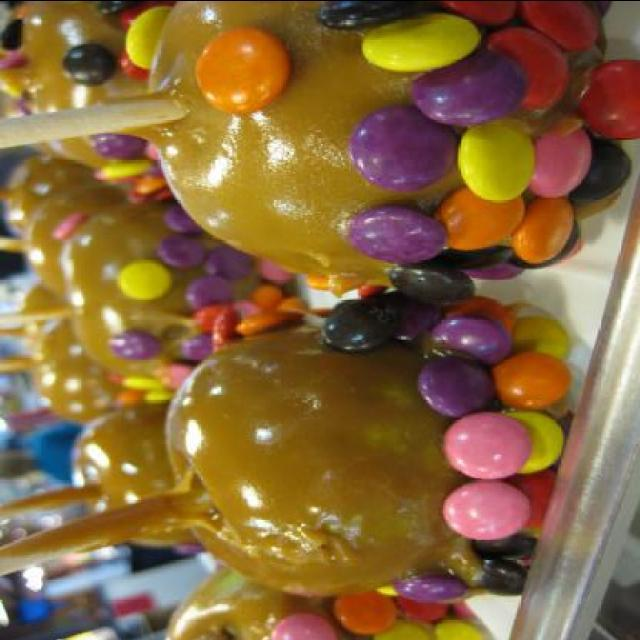Candy: (42, 1, 613, 636)
